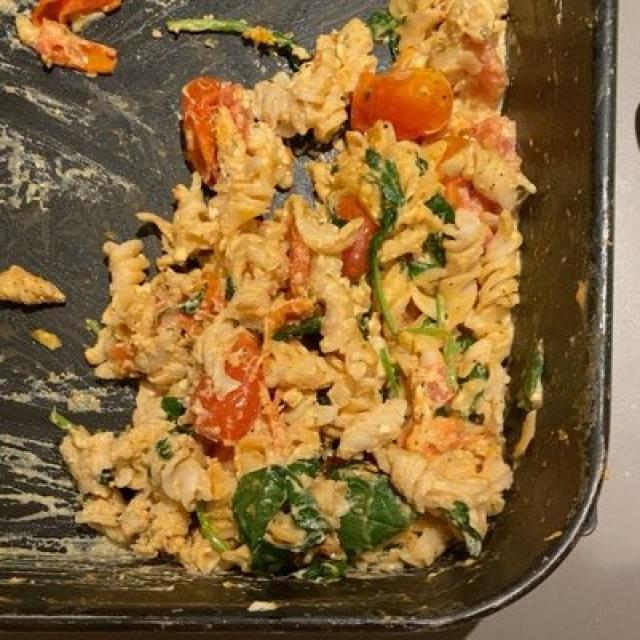rice-noodles-vermicelli: (63, 14, 518, 574)
spinach-raw: (228, 147, 484, 578)
tomato-raw: (175, 71, 455, 426)
